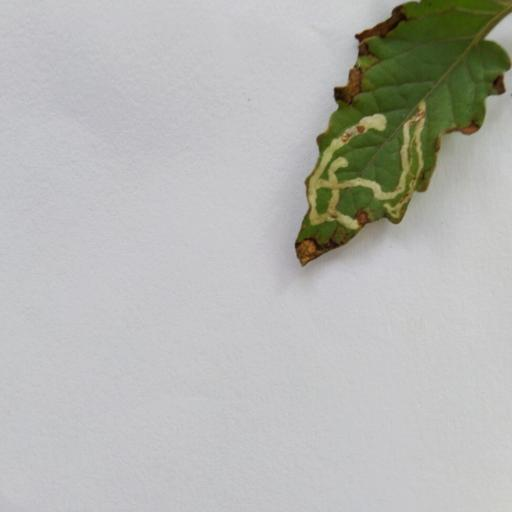disease_tomato: (292, 0, 512, 271)
